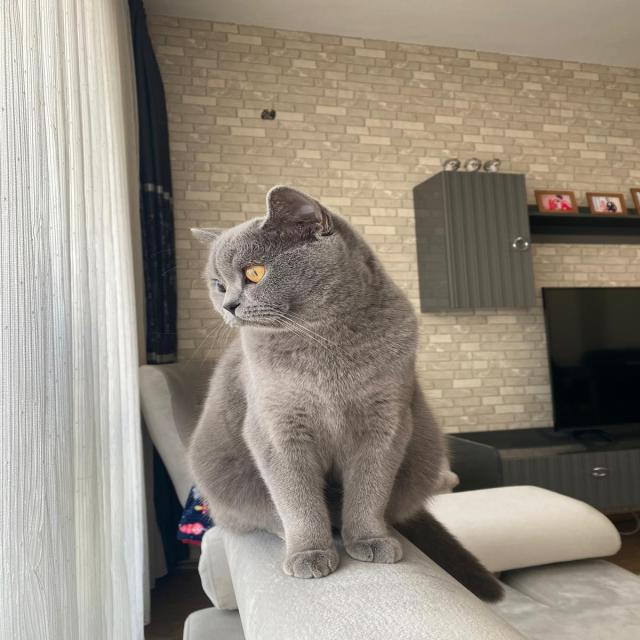british shorthair: (7, 126, 620, 590)
